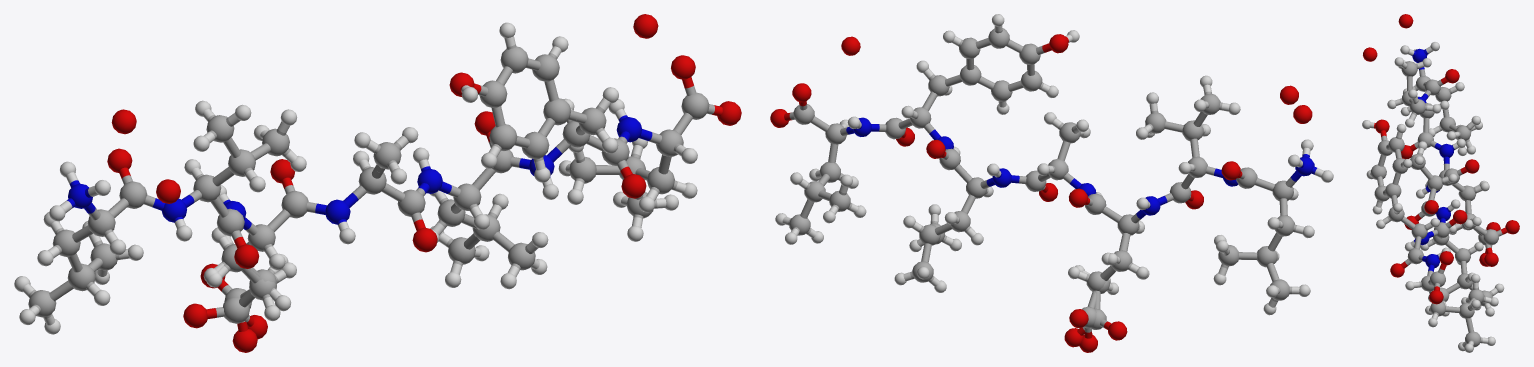
File: 3hyd.gltf
The picture shows the model from 3 angles, left to right: view 1: azimuth 30°, elevation 25°; view 2: azimuth 150°, elevation 25°; view 3: azimuth 270°, elevation 25°; orthographic projection. The views are drawn at different scales.
Visible parts, largest first — view 1: 3hyd; view 2: 3hyd; view 3: 3hyd.
Part boxes in pixels (box(x1,y1,x2,y2)): 3hyd: box(14, 14, 741, 352); 3hyd: box(770, 14, 1333, 352); 3hyd: box(1362, 14, 1519, 352).
Size of the model in its own units: 3.17 by 1.45 by 1.05.
